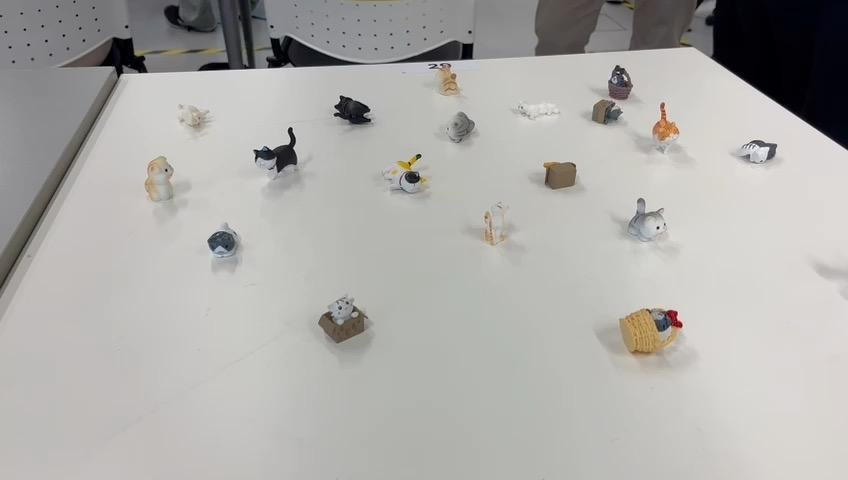pet: (616, 302, 689, 358), (314, 287, 377, 349), (250, 125, 311, 182), (378, 150, 435, 203), (624, 196, 675, 243), (142, 149, 180, 203), (649, 98, 682, 160), (204, 219, 247, 263), (332, 91, 379, 130), (481, 196, 515, 248), (174, 95, 215, 133), (440, 108, 477, 145), (733, 135, 780, 164), (540, 156, 580, 190), (606, 62, 636, 101), (513, 97, 561, 120), (432, 63, 464, 96), (590, 96, 624, 127)
